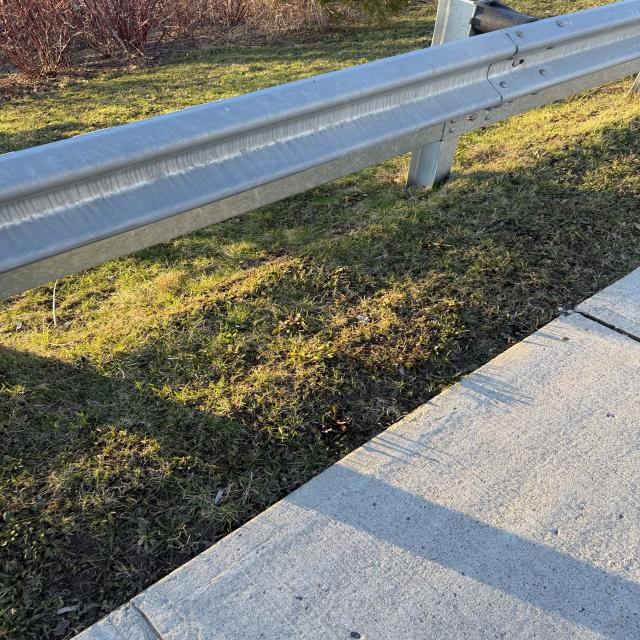Guard rail: (26, 20, 636, 268)
